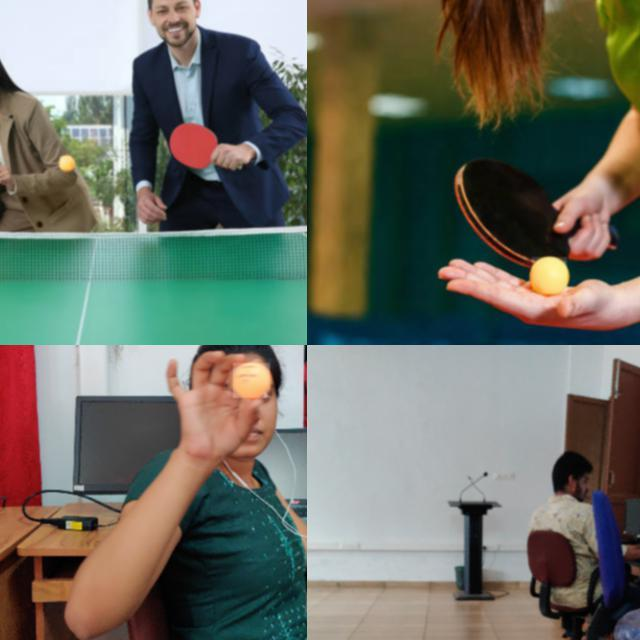ping-pong-ball: (532, 256, 568, 296), (233, 363, 271, 399), (60, 156, 72, 170)
